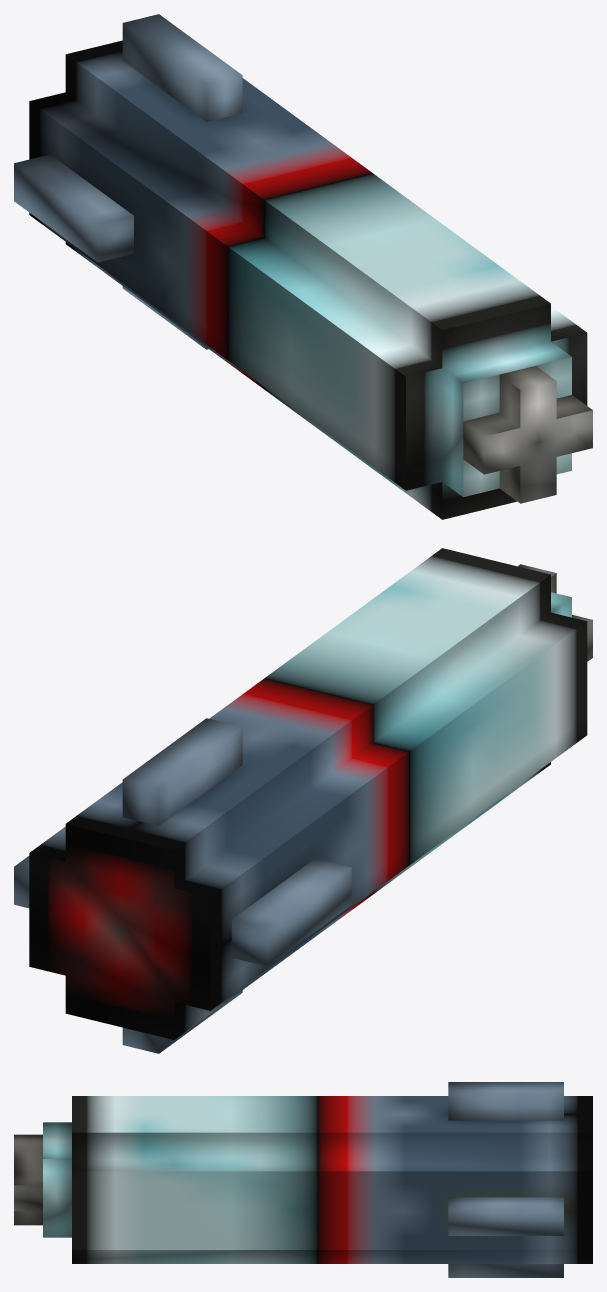
The model's file is armadillo_rocket.fbx.
The picture shows the model from 3 angles, top to bottom: view 1: azimuth 30°, elevation 25°; view 2: azimuth 150°, elevation 25°; view 3: azimuth 270°, elevation 25°; orthographic projection. The views are drawn at different scales.
Parts seen in each view (by area): view 1: armadillo_rocket; view 2: armadillo_rocket; view 3: armadillo_rocket.
Part boxes in pixels (box(x1,y1,x2,y2)): armadillo_rocket: box(14, 14, 592, 519); armadillo_rocket: box(14, 548, 592, 1053); armadillo_rocket: box(14, 1082, 592, 1277).
Bounding box in the file's own units: 0.151 × 0.151 × 0.4313.
Materials: 1 (1 with a texture image).
